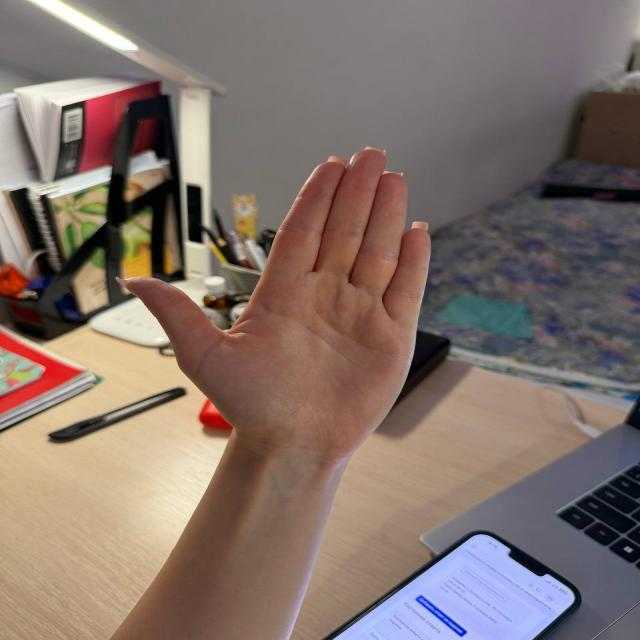v: (131, 132, 438, 458)
